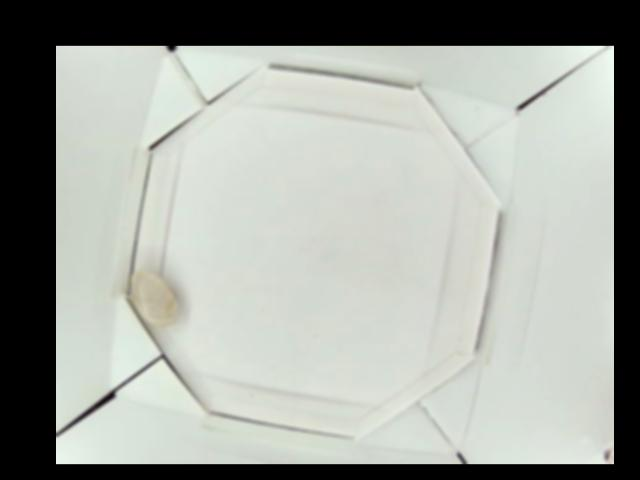Pebble: (134, 268, 180, 323)
